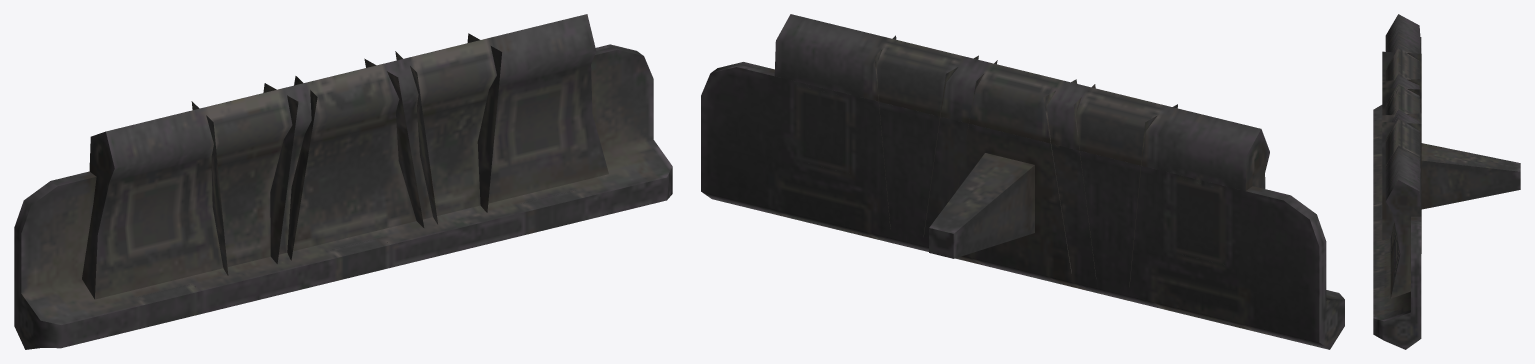
3 renders of one model, left to right at view 1: azimuth 30°, elevation 25°; view 2: azimuth 150°, elevation 25°; view 3: azimuth 270°, elevation 25°, orthographic. The views are drawn at different scales.
Parts seen in each view (by area): view 1: set_0_group_0; view 2: set_0_group_0; view 3: set_0_group_0.
Part boxes in pixels (left/top/right/bottom): set_0_group_0: left=14, top=14, right=672, bottom=349; set_0_group_0: left=701, top=14, right=1344, bottom=349; set_0_group_0: left=1373, top=14, right=1520, bottom=349.
Size of the model in its own units: 0.5503 by 0.1696 by 0.1571.
1 material, 1 textured.
